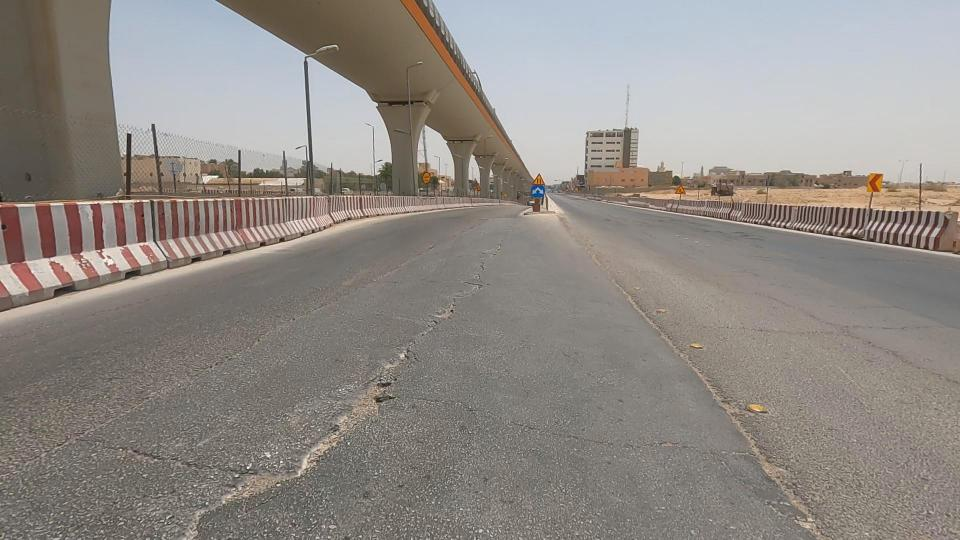CONSTRUCTION_ROAD: (59, 120, 313, 279), (0, 102, 138, 300), (215, 147, 432, 247), (765, 176, 960, 273), (682, 171, 835, 250), (592, 180, 744, 234), (365, 166, 492, 223)
POTHOLES: (227, 362, 461, 498), (290, 302, 504, 445), (378, 252, 525, 372)
